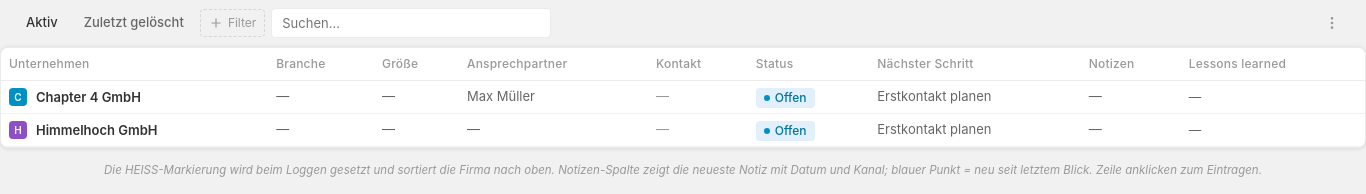
Test: CompanyTable › live search (DB-08, D-10/11) › search matches a contact name (D-10)
The width and height of the screenshot is (1366, 194).
Type "müller" into the field with placeholder "Suchen…" at x=411, y=23, box x1=271 y1=8 x2=551 y2=38
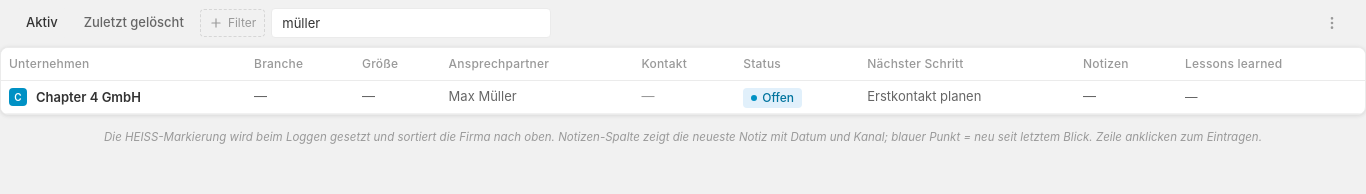
Expected: the text "Chapter 4 GmbH" is shown, x1=36 y1=89 x2=141 y2=105
Expected: the text "Himmelhoch GmbH" is gone
